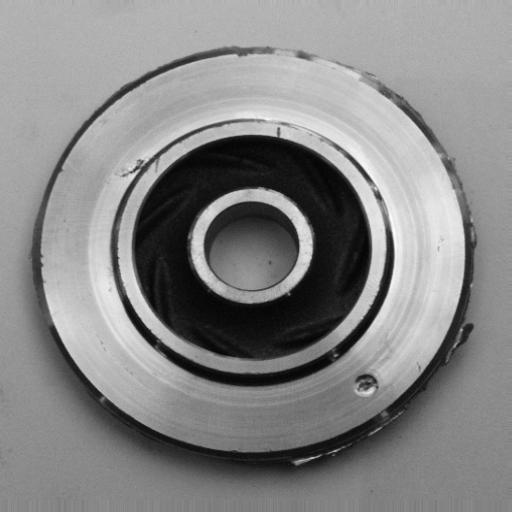casting_with_burr: (28, 41, 481, 474)
crack: (112, 148, 163, 187)
pit: (348, 364, 388, 404)
scratch: (238, 104, 337, 149)
